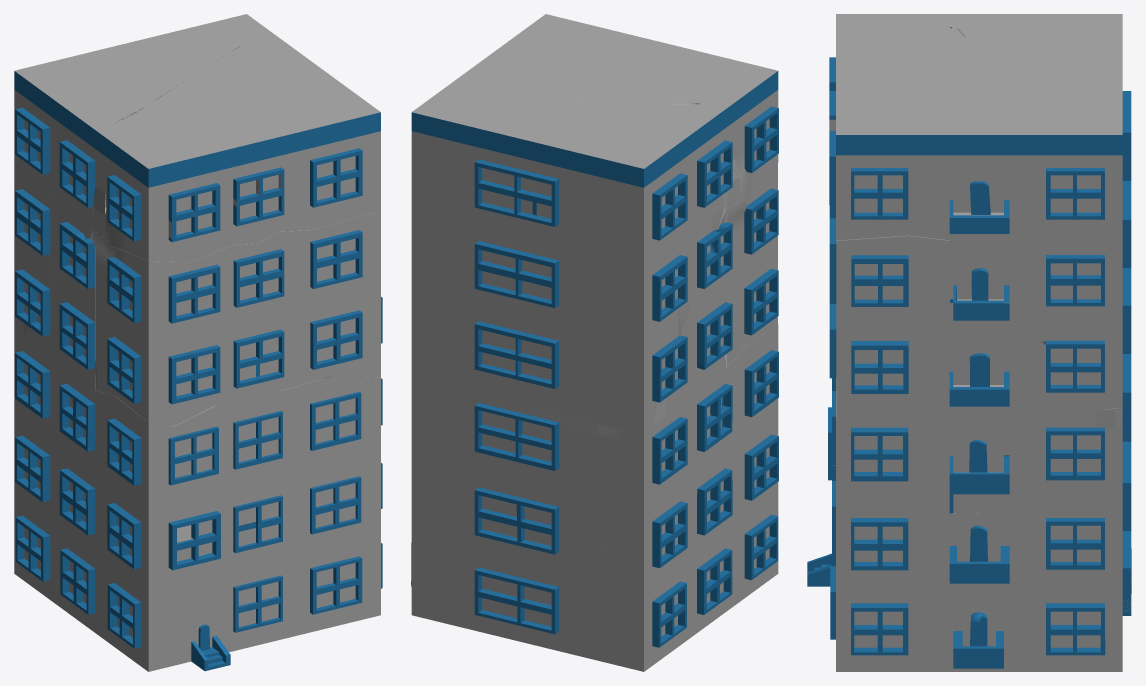
File: Condo Pivot fix.fbx
3 renders of one model, left to right at view 1: azimuth 30°, elevation 25°; view 2: azimuth 150°, elevation 25°; view 3: azimuth 270°, elevation 25°, orthographic. The views are drawn at different scales.
Parts seen in each view (by area): view 1: polySurface415, polySurface411, polySurface404, polySurface408, polySurface403, polySurface416, polySurface407, polySurface413, polySurface414; view 2: polySurface413, polySurface407, polySurface416, polySurface404, polySurface415, polySurface403, polySurface411, polySurface414, polySurface408; view 3: polySurface415, polySurface403, polySurface407, polySurface411, polySurface416, polySurface413, polySurface414, polySurface408, polySurface404.
Part boxes in pixels (left/top/right/bottom): polySurface415: left=102, top=29, right=380, bottom=261; polySurface411: left=93, top=211, right=382, bottom=426; polySurface404: left=14, top=413, right=230, bottom=671; polySurface408: left=105, top=376, right=382, bottom=515; polySurface403: left=225, top=463, right=382, bottom=652; polySurface416: left=14, top=14, right=267, bottom=240; polySurface407: left=14, top=338, right=107, bottom=496; polySurface413: left=14, top=164, right=106, bottom=389; polySurface414: left=17, top=229, right=95, bottom=390; polySurface413: left=411, top=194, right=726, bottom=435; polySurface407: left=411, top=358, right=737, bottom=562; polySurface416: left=411, top=97, right=740, bottom=261; polySurface404: left=555, top=417, right=778, bottom=671; polySurface415: left=433, top=14, right=778, bottom=200; polySurface403: left=411, top=532, right=559, bottom=650; polySurface411: left=725, top=163, right=778, bottom=368; polySurface414: left=647, top=208, right=732, bottom=426; polySurface408: left=735, top=324, right=778, bottom=457; polySurface415: left=829, top=14, right=1079, bottom=247; polySurface403: left=830, top=465, right=1131, bottom=671; polySurface407: left=921, top=354, right=1131, bottom=582; polySurface411: left=829, top=205, right=949, bottom=418; polySurface416: left=934, top=14, right=1131, bottom=231; polySurface413: left=950, top=181, right=1131, bottom=384; polySurface414: left=949, top=249, right=1122, bottom=418; polySurface408: left=832, top=378, right=925, bottom=512; polySurface404: left=807, top=407, right=831, bottom=586.
Bounding box in the file's own units: 3.53 × 6.2 × 3.39.
